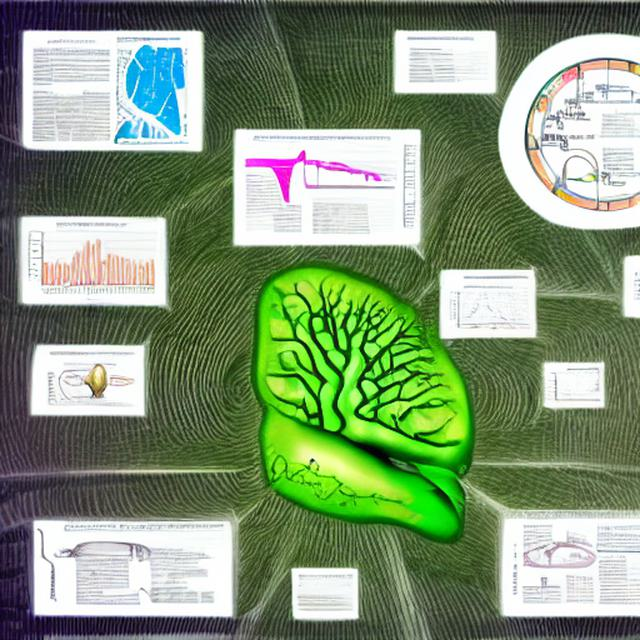Graph: (25, 222, 157, 301), (445, 283, 532, 335)
